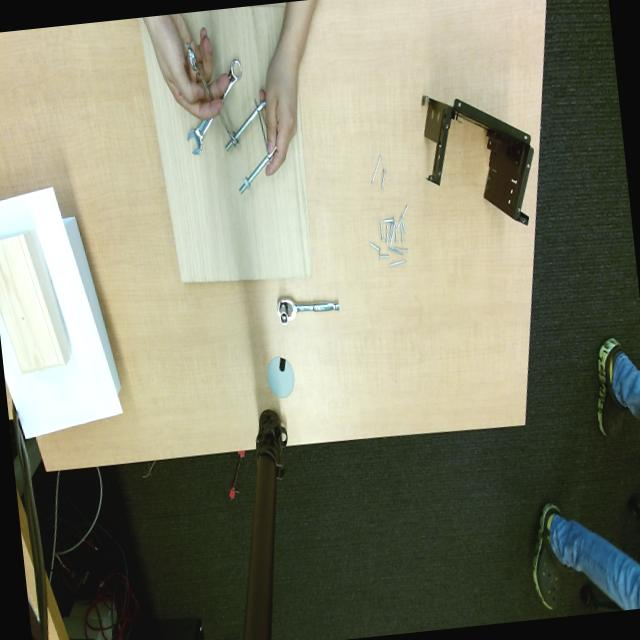wrench: (186, 45, 239, 147), (187, 59, 242, 154), (277, 297, 338, 324)
